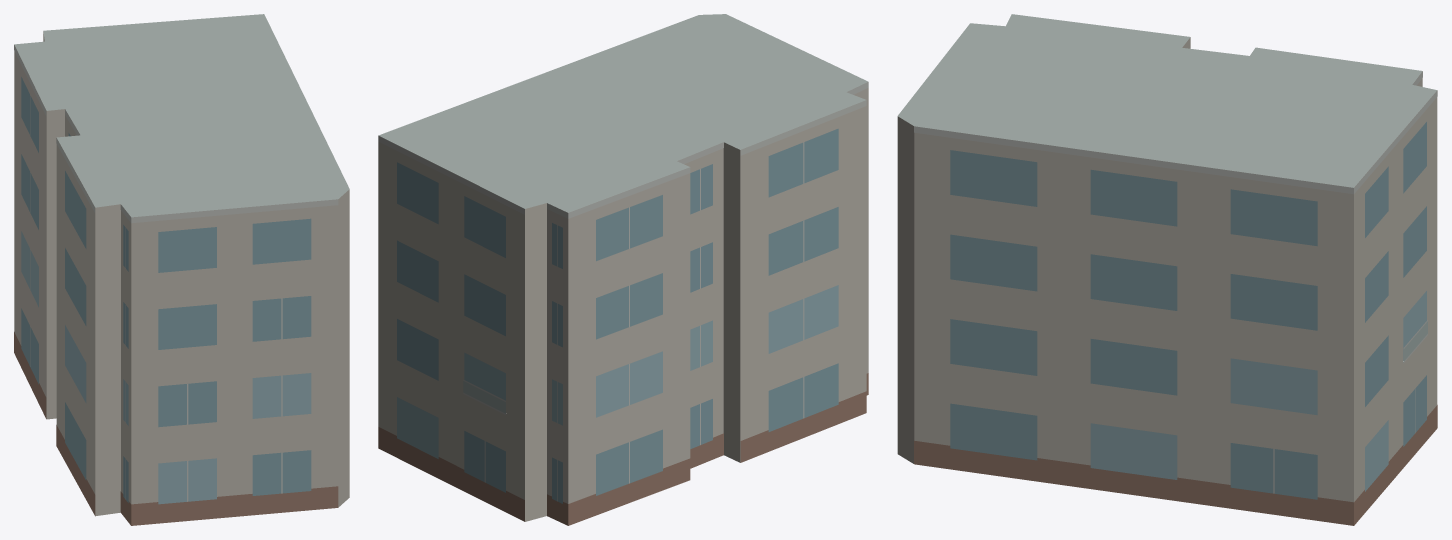
Rendered from survey-upis-32929879.glb.
3 views of the same model, side by side, from view 1: azimuth 30°, elevation 25°; view 2: azimuth 150°, elevation 25°; view 3: azimuth 270°, elevation 25° (orthographic). The views are drawn at different scales.
Parts seen in each view (by area): view 1: survey-upis-32929879.tmp; view 2: survey-upis-32929879.tmp; view 3: survey-upis-32929879.tmp.
Part boxes in pixels (box(x1,y1,x2,y2)): survey-upis-32929879.tmp: box(14, 14, 349, 525); survey-upis-32929879.tmp: box(378, 14, 868, 525); survey-upis-32929879.tmp: box(897, 14, 1437, 525).
Bounding box in the file's own units: 14.13 × 12.8 × 18.54.
